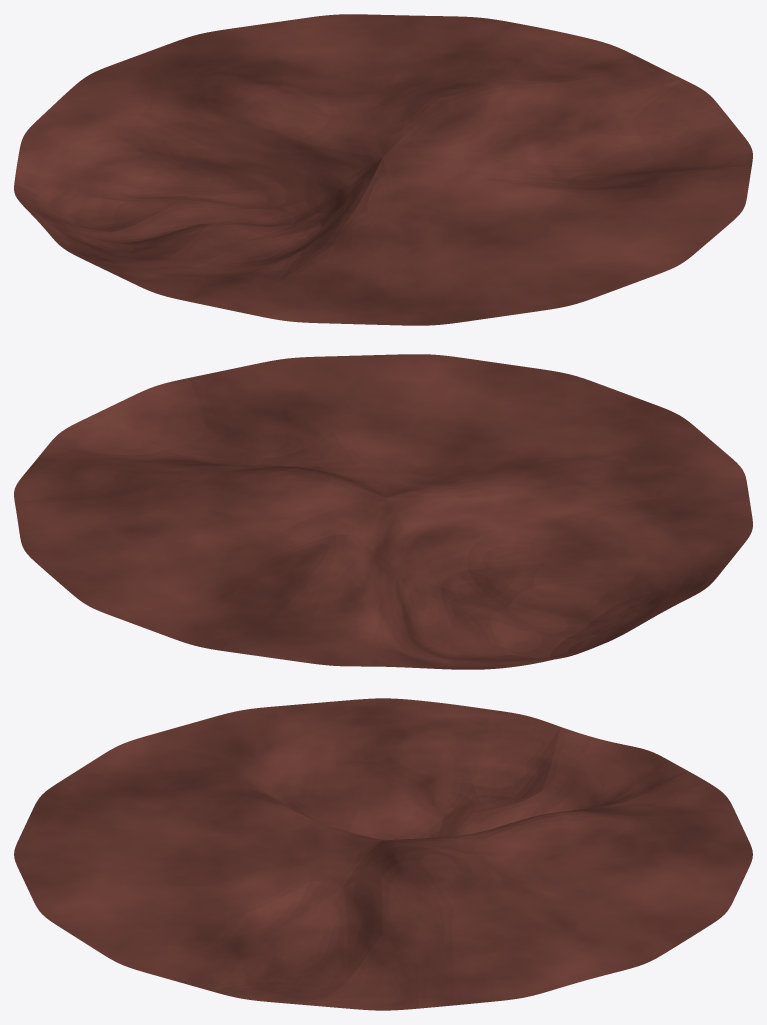
The model's file is tanah.fbx.
3 renders of one model, top to bottom at view 1: azimuth 30°, elevation 25°; view 2: azimuth 150°, elevation 25°; view 3: azimuth 270°, elevation 25°, orthographic.
Parts seen in each view (by area): view 1: Cylinder.006; view 2: Cylinder.006; view 3: Cylinder.006.
Boxes of the visible parts, x1,y1,x2,y2 form: Cylinder.006: (14, 14, 752, 325); Cylinder.006: (14, 354, 752, 669); Cylinder.006: (14, 698, 752, 1010).
Bounding box in the file's own units: 169 × 19.52 × 169.
1 material, 1 textured.
